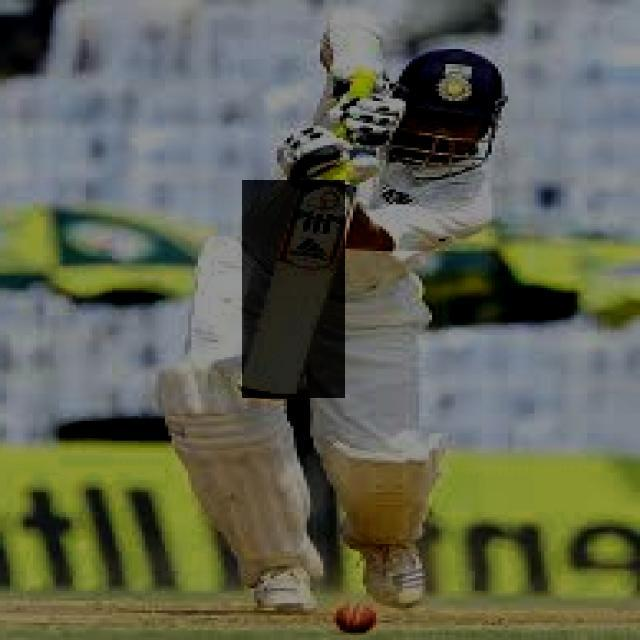bat: (242, 179, 344, 397)
toe: (234, 385, 300, 404)
